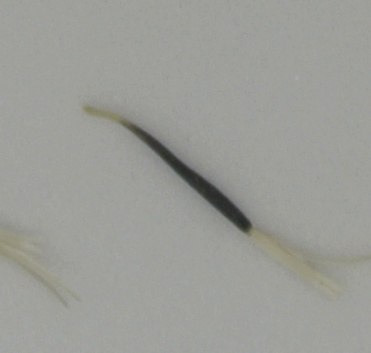เมล็ดดีเรียวยาว: (79, 99, 358, 280)
